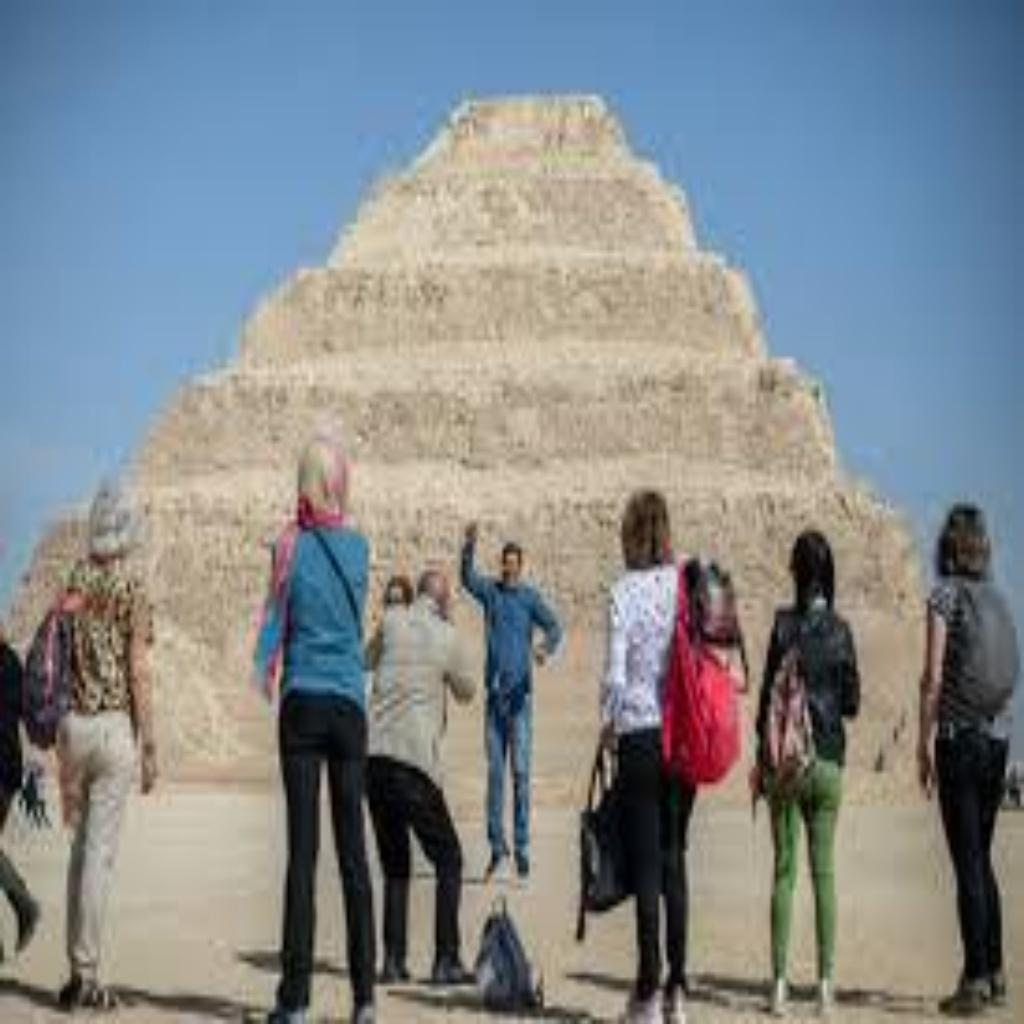Pyramid of Djoser: (8, 84, 934, 806)
